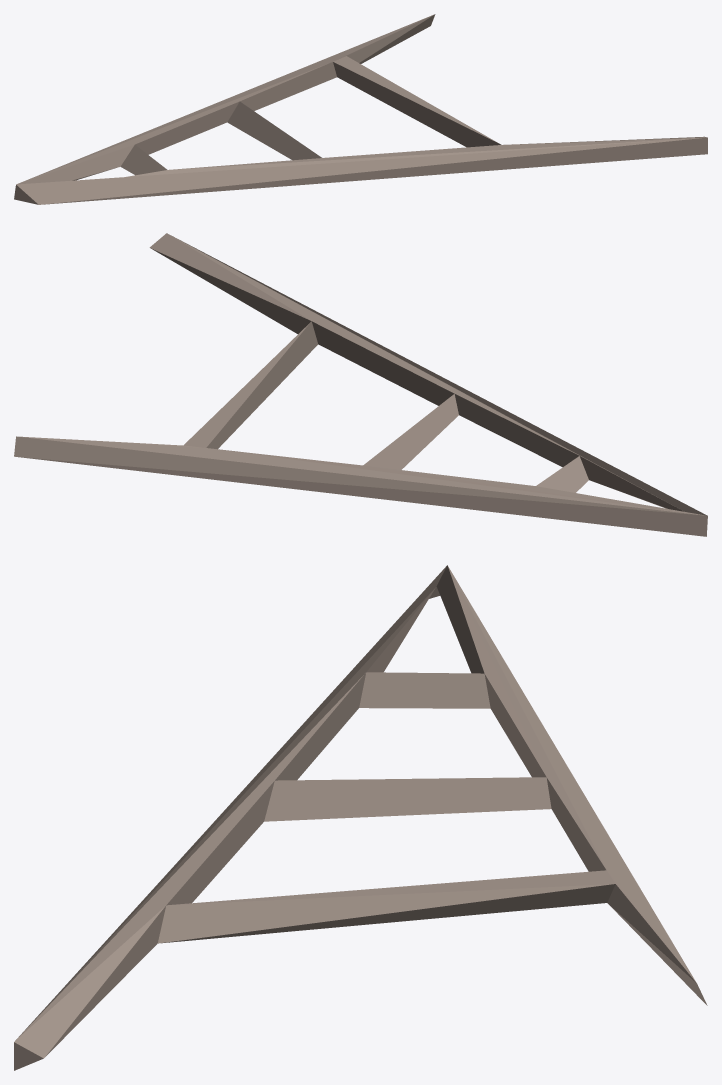
The model's file is LPHorror_SpiderWebCorner.fbx.
3 views of the same model, one above another, from view 1: azimuth 30°, elevation 25°; view 2: azimuth 150°, elevation 25°; view 3: azimuth 270°, elevation 25° (orthographic). The views are drawn at different scales.
Visible parts, largest first — view 1: SpiderWebCorner; view 2: SpiderWebCorner; view 3: SpiderWebCorner.
Boxes of the visible parts, x1=… form: SpiderWebCorner: x1=14, y1=14, x2=707, y2=204; SpiderWebCorner: x1=14, y1=233, x2=707, y2=536; SpiderWebCorner: x1=14, y1=565, x2=707, y2=1070.
Size of the model in its own units: 106 by 2.95 by 64.17.
